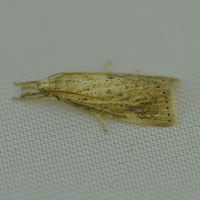insect: (13, 72, 179, 132)
